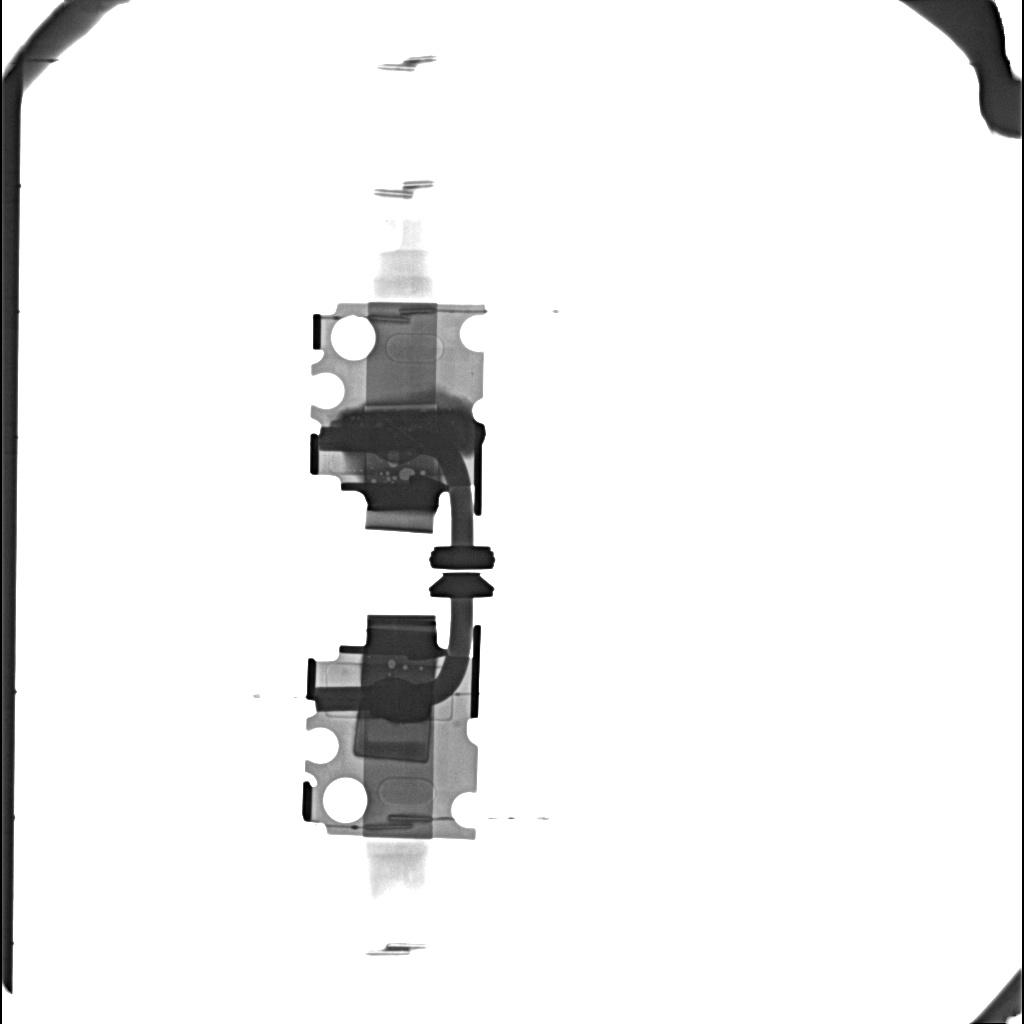气孔: (353, 714, 432, 763), (362, 402, 440, 411)
气泡: (400, 467, 415, 480), (387, 659, 396, 669), (403, 664, 408, 670)
水纹: (343, 410, 468, 452), (366, 678, 432, 723)
